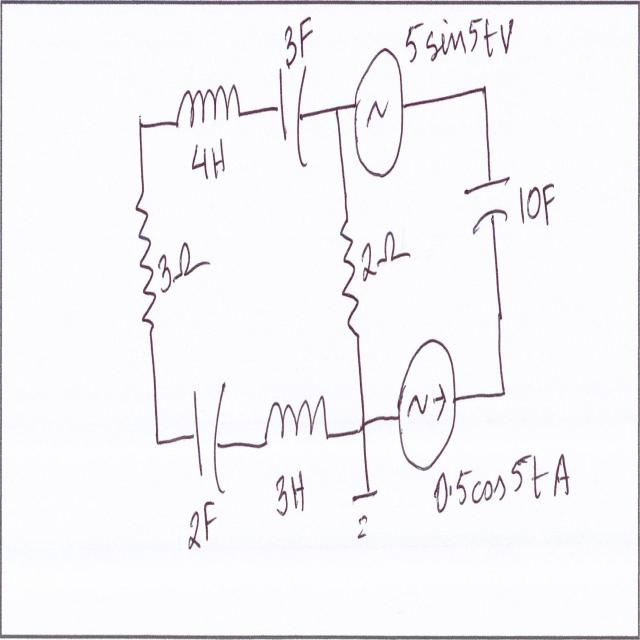ac_current: (352, 41, 408, 190)
capacitor: (191, 381, 234, 497), (275, 57, 312, 179), (463, 169, 516, 241)
current_source: (397, 332, 457, 475)
ground: (347, 472, 386, 552)
inductor: (262, 392, 334, 457), (176, 82, 243, 139)
resistor: (130, 188, 157, 332), (341, 204, 363, 344)
